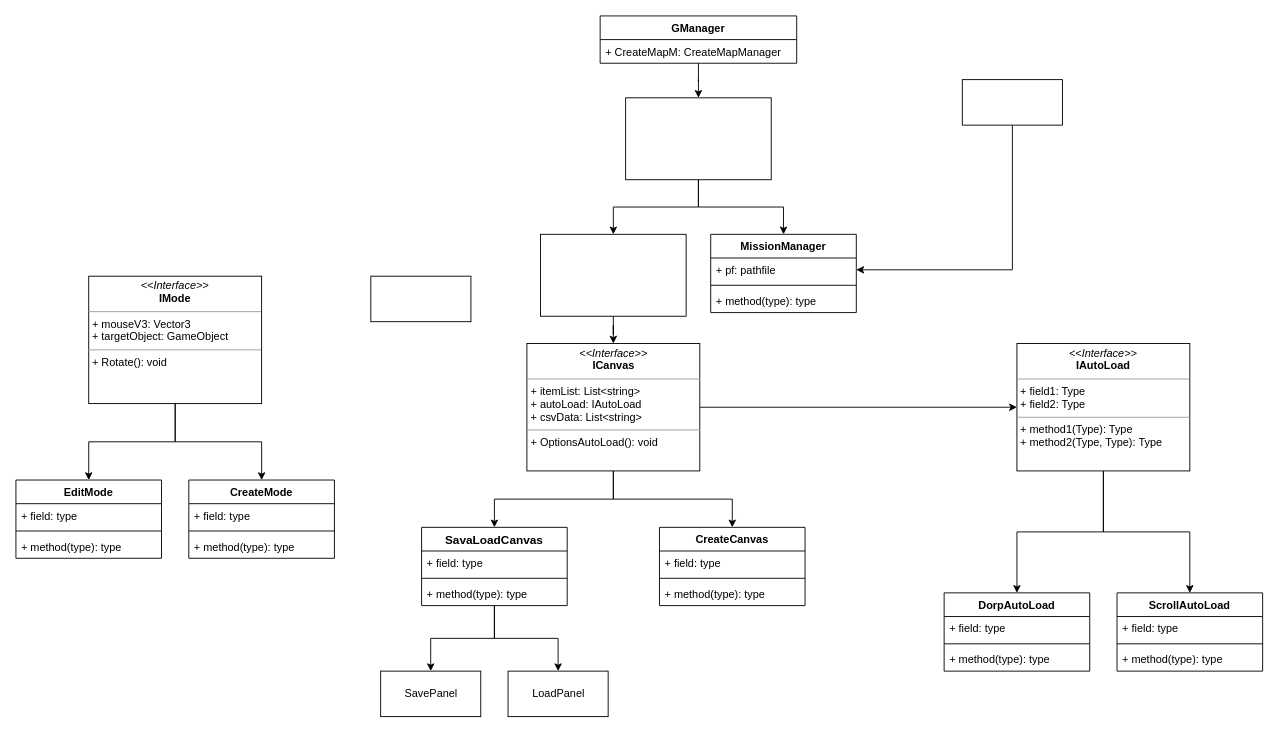
Some shapes in this 1279 by 733 pixel diagram are drawn without their labels. The centre of each missing label's shape, as x and y in pixels:
"CreateMapManager + field: Type + method(): Type" goes at point 698,138.
"LSfile - pathfile" goes at point 1011,102.
"ObjData" goes at point 420,298.
"UIManager + canvas: ICanvas + method(): Type" goes at point 613,274.
